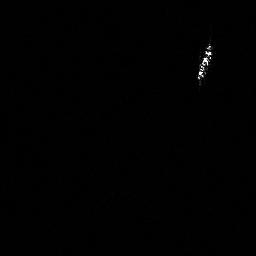ship: (193, 37, 216, 85)
